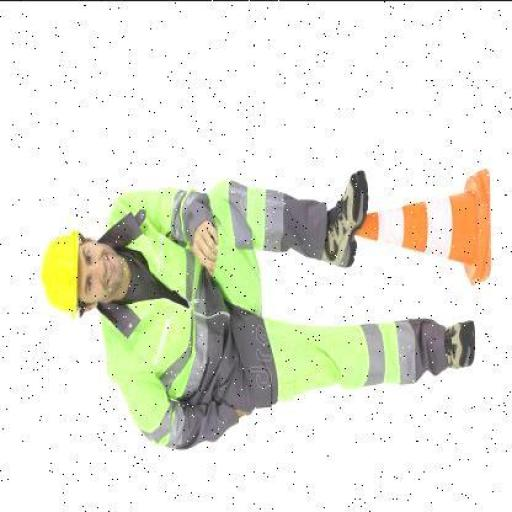person: (41, 164, 483, 446)
safety_shoe: (322, 172, 370, 265), (440, 304, 478, 384)
